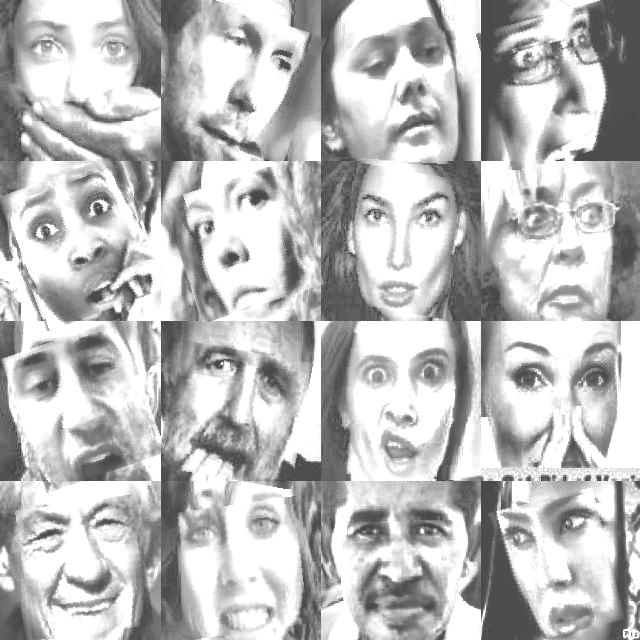fear: (8, 162, 156, 323), (484, 6, 634, 163), (11, 327, 157, 485), (490, 171, 636, 319), (172, 170, 316, 315), (166, 345, 308, 484), (335, 334, 467, 478), (15, 12, 149, 114)
happy: (20, 498, 150, 638), (492, 332, 624, 466)
neutral: (338, 167, 461, 315), (496, 493, 618, 639)
sad: (179, 8, 317, 158), (181, 500, 311, 636), (336, 25, 456, 165), (346, 493, 459, 640)
